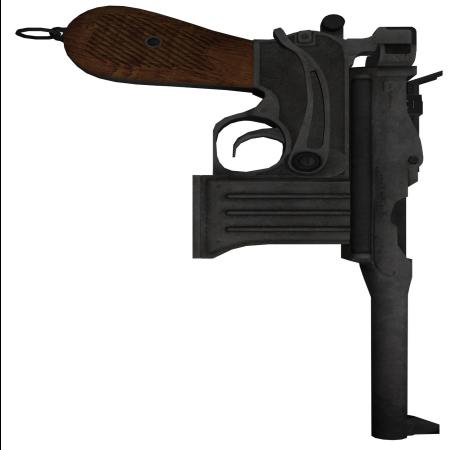Pistol: (48, 10, 448, 434)
